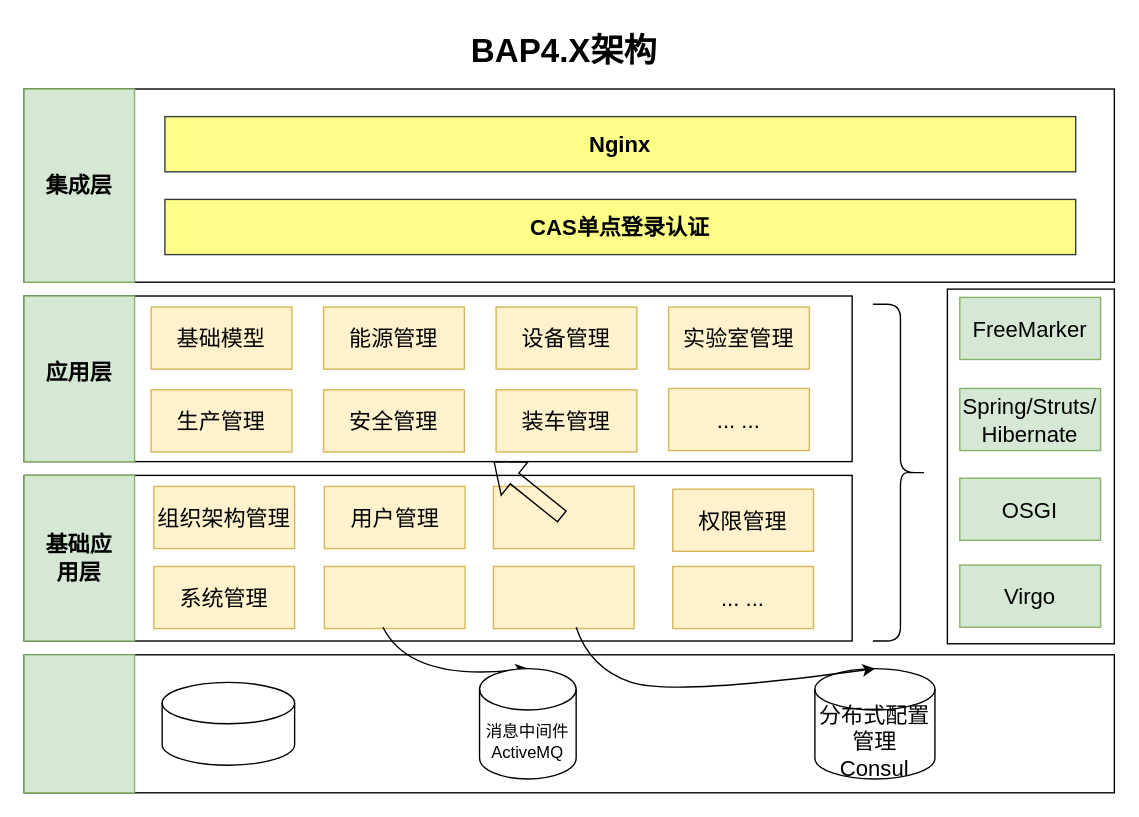
The diagram is 1139 pixels wide and 817 high, and some of its shapes have lost their labels. Each missing label, with the centre of its shape:
中间件/存储层: pixel 79 723
数据库: pixel 228 723
系统配置: pixel 563 597
组态管理: pixel 563 517
通知管理: pixel 394 597
